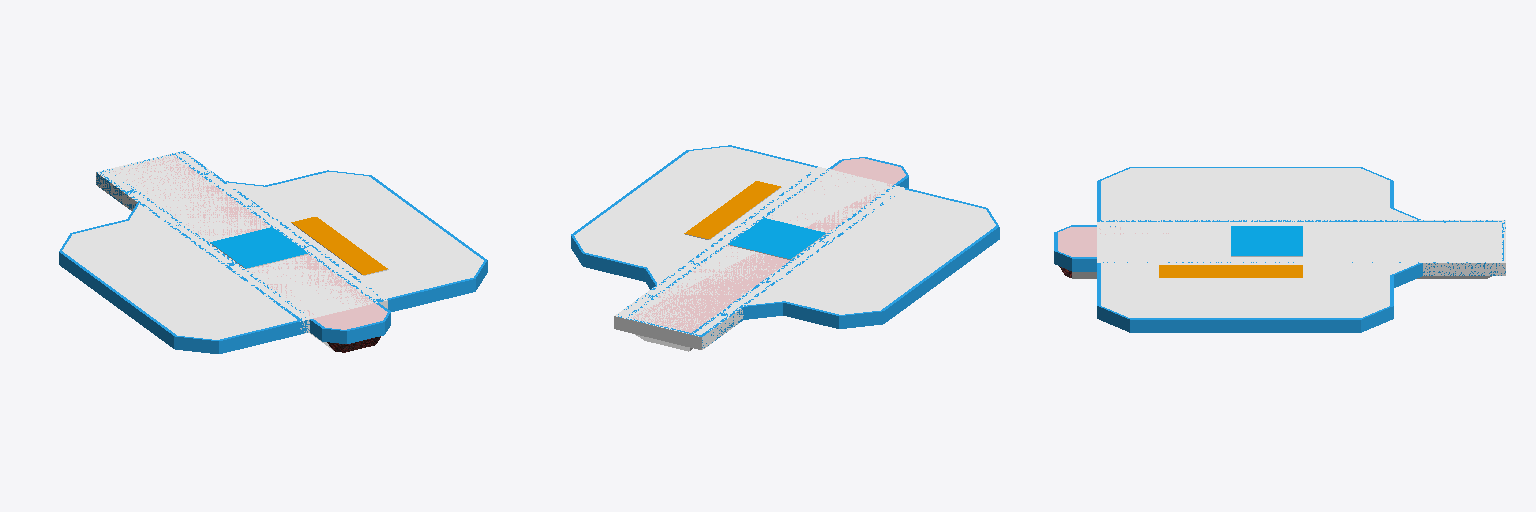
3 renders of one model, left to right at view 1: azimuth 30°, elevation 25°; view 2: azimuth 150°, elevation 25°; view 3: azimuth 270°, elevation 25°, orthographic.
Visible parts, largest first — view 1: entity0_brush0, entity0_brush6, entity0_brush42, entity0_brush7, entity0_brush39, entity0_brush44, entity0_brush43, entity0_brush3, entity0_brush1, entity0_brush26, entity0_brush10, entity0_brush19 (+5 smaller); view 2: entity0_brush0, entity0_brush6, entity0_brush42, entity0_brush44, entity0_brush7, entity0_brush39, entity0_brush43, entity0_brush3, entity0_brush1, entity0_brush26, entity0_brush10, entity0_brush8 (+5 smaller); view 3: entity0_brush0, entity0_brush6, entity0_brush42, entity0_brush7, entity0_brush2, entity0_brush39, entity0_brush43, entity0_brush1, entity0_brush26, entity0_brush10, entity0_brush8, entity0_brush28 (+1 smaller).
Boxes of the visible parts, box(x1,y1,x2,y2) form: entity0_brush0: box(96, 151, 387, 333); entity0_brush6: box(63, 225, 251, 312); entity0_brush42: box(256, 176, 452, 265); entity0_brush7: box(173, 287, 296, 339); entity0_brush39: box(342, 244, 473, 298); entity0_brush44: box(113, 155, 387, 327); entity0_brush43: box(210, 227, 308, 268); entity0_brush3: box(59, 251, 176, 348); entity0_brush1: box(291, 217, 388, 275); entity0_brush26: box(242, 172, 366, 202); entity0_brush10: box(62, 215, 167, 250); entity0_brush19: box(385, 278, 475, 311); entity0_brush0: box(614, 167, 904, 349); entity0_brush6: box(774, 222, 964, 309); entity0_brush42: box(574, 174, 770, 262); entity0_brush44: box(631, 161, 905, 332); entity0_brush7: box(860, 189, 984, 241); entity0_brush39: box(684, 147, 815, 200); entity0_brush43: box(728, 218, 826, 259); entity0_brush3: box(881, 226, 999, 323); entity0_brush1: box(684, 181, 781, 239); entity0_brush26: box(575, 236, 685, 273); entity0_brush10: box(761, 285, 880, 314); entity0_brush8: box(942, 209, 995, 247); entity0_brush0: box(1097, 220, 1505, 275); entity0_brush6: box(1191, 168, 1360, 219); entity0_brush42: box(1191, 263, 1360, 317); entity0_brush7: box(1101, 181, 1190, 219); entity0_brush2: box(1130, 318, 1360, 332); entity0_brush39: box(1101, 263, 1190, 305); entity0_brush43: box(1231, 226, 1302, 256); entity0_brush1: box(1159, 265, 1302, 277); entity0_brush26: box(1361, 263, 1389, 317); entity0_brush10: box(1361, 169, 1389, 219); entity0_brush8: box(1102, 168, 1190, 180); entity0_brush28: box(1102, 306, 1190, 317).
Bounding box in the file's own units: 800 × 66 × 1000.
Materials: 10 (1 with a texture image).